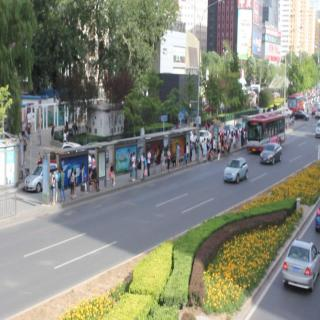BigCar: (243, 110, 293, 146)
Car: (285, 230, 320, 298), (221, 153, 254, 185), (263, 142, 281, 168)
